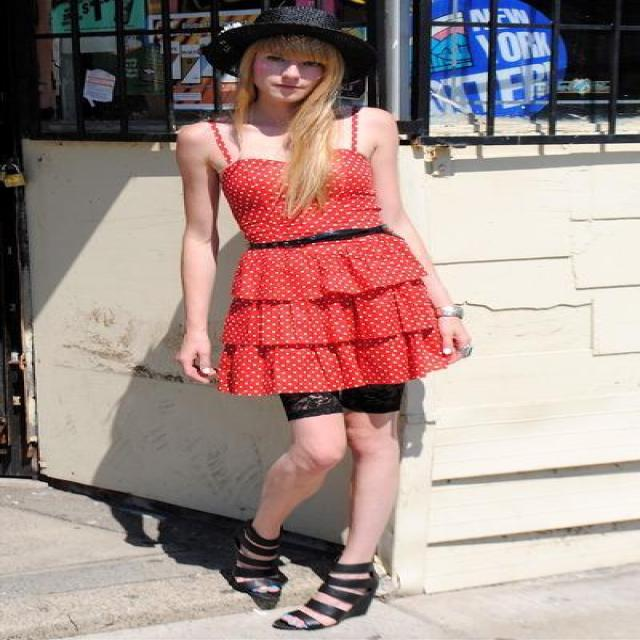dress: (213, 140, 470, 394)
hat: (198, 15, 384, 88)
shoe: (222, 525, 392, 629)
shorts: (278, 383, 402, 420)
